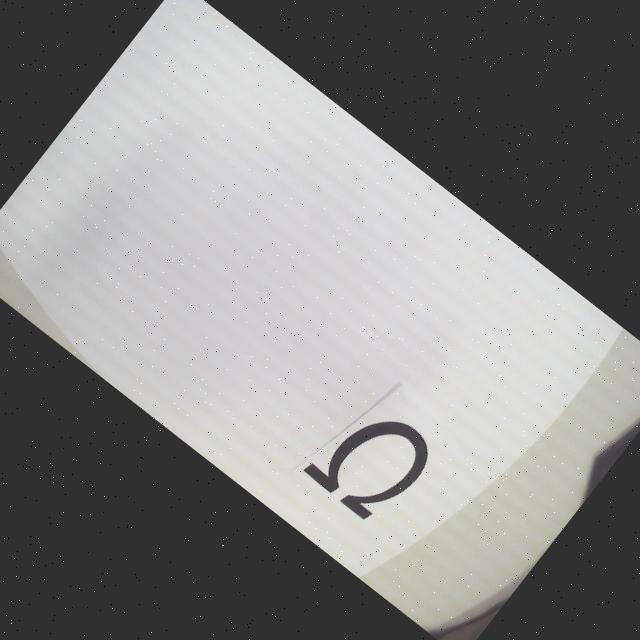OMEGA: (301, 390, 439, 530)
